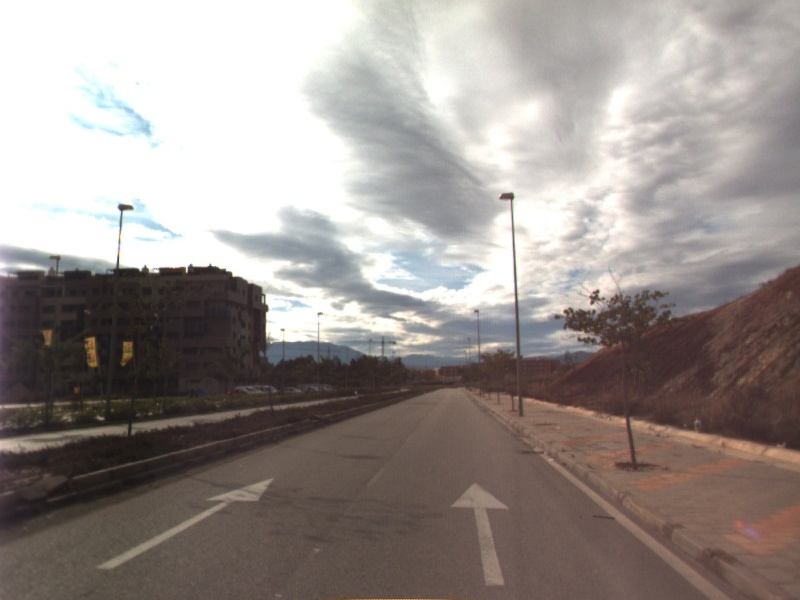STRAIGHT: (93, 475, 276, 572), (448, 480, 512, 588)
